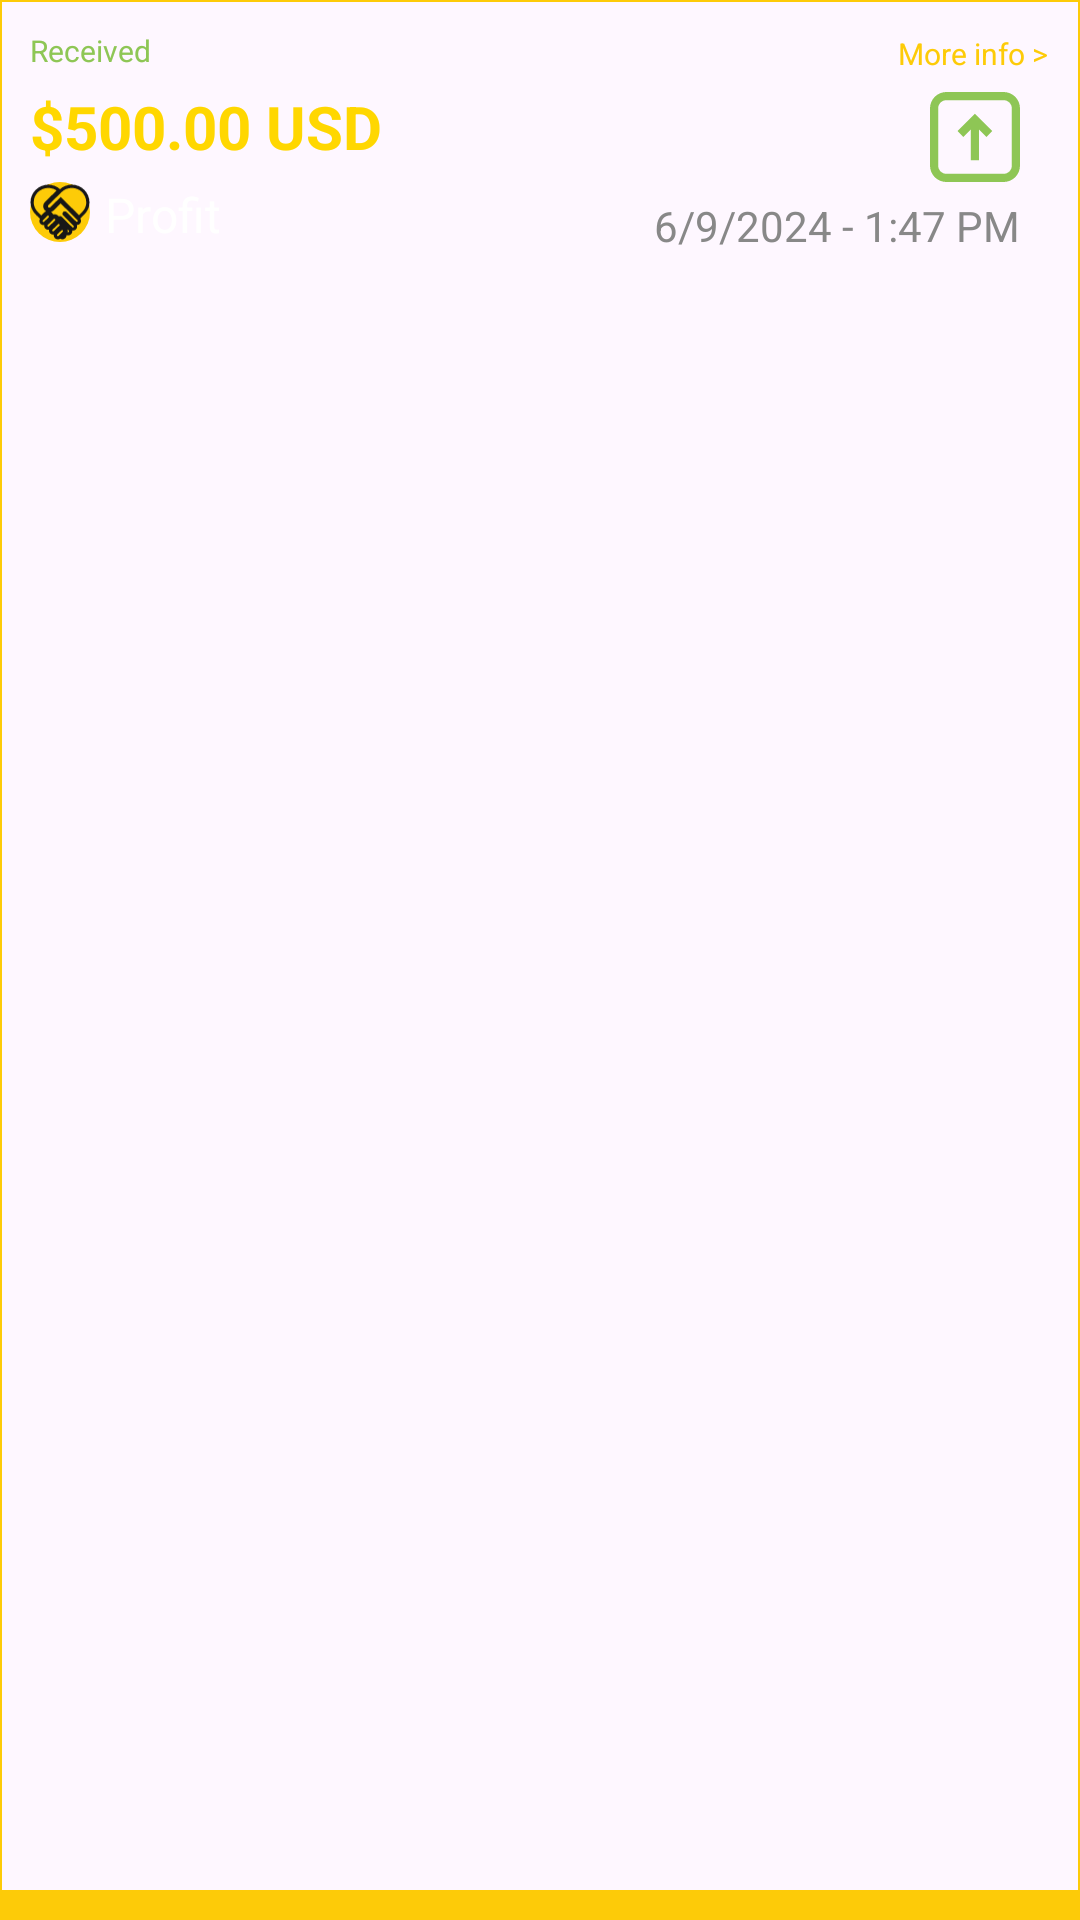

Named icons in this screenshot (1080*1920) and their bounding boxes, (x1, y1, x2, y2):
income: (930, 92, 1020, 182)
